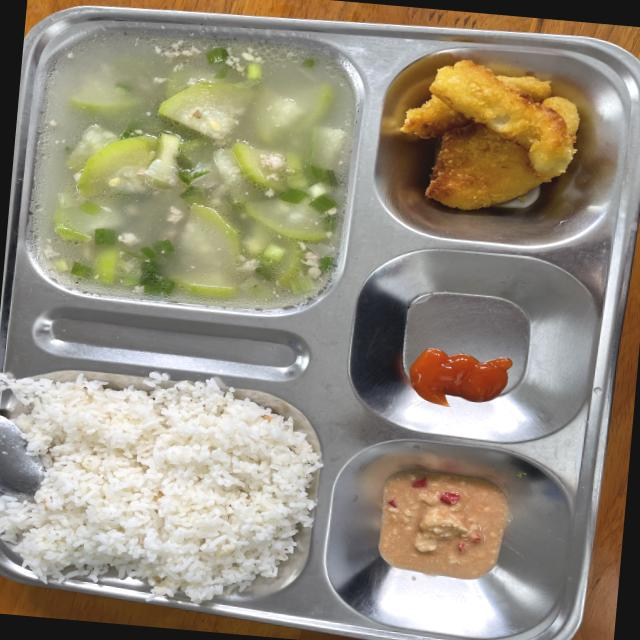ca chien: (400, 60, 579, 209)
canh bau: (30, 35, 354, 310)
com: (0, 377, 320, 601)
